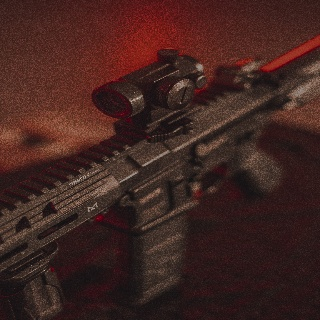rifle: (2, 45, 319, 320)
